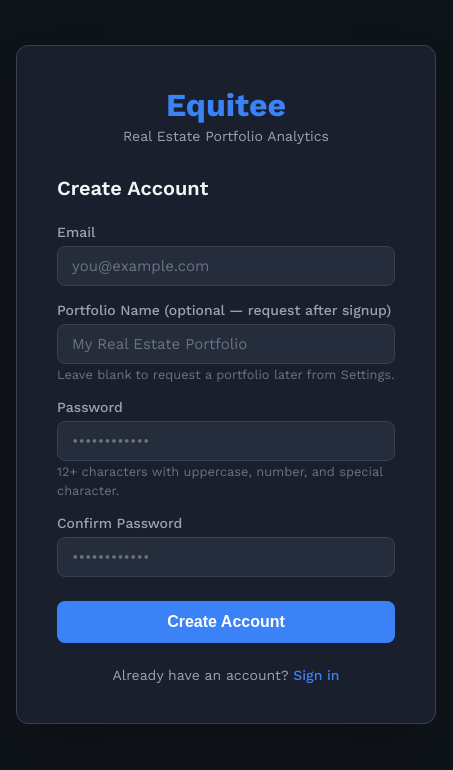
Test: RegisterPage › shows error when passwords do not match
The image size is (453, 770).
Type "test@example.com" into the field labelled "Email".
click(226, 266); type("test@example.com")  # box [57,246,395,286]
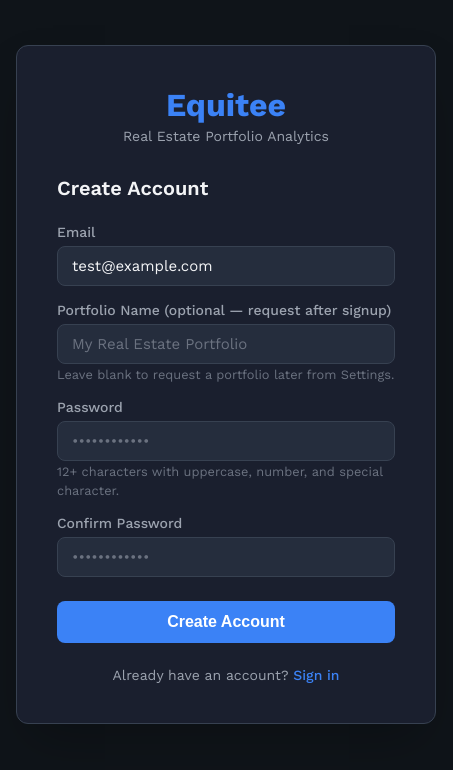
Type "password123" into the password field labelled "Password".
click(226, 440); type("password123")  # box [57,420,395,460]
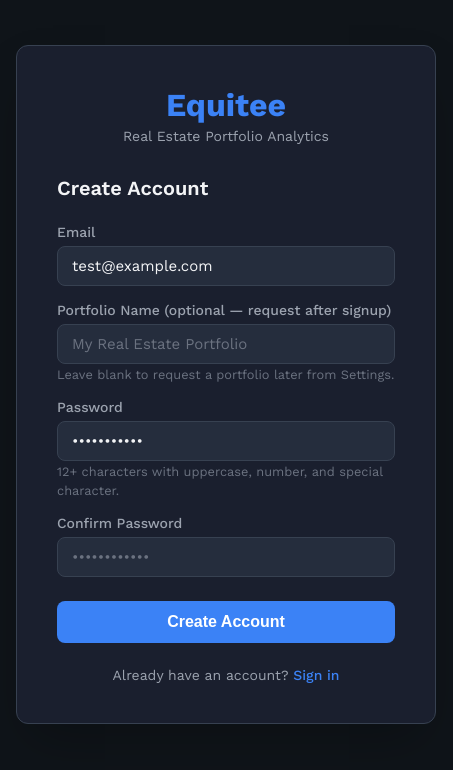
Type "different" into the password field labelled "Confirm Password".
click(226, 556); type("different")  # box [57,536,395,576]
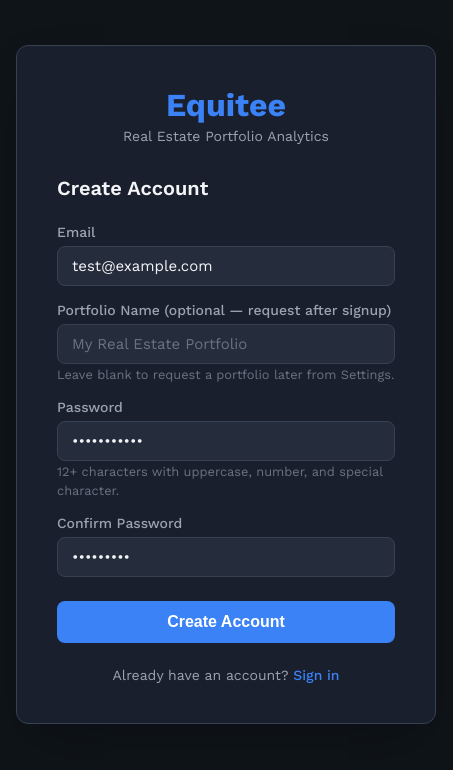
Click the button "Create Account".
click(226, 622)  # box [57,600,395,642]
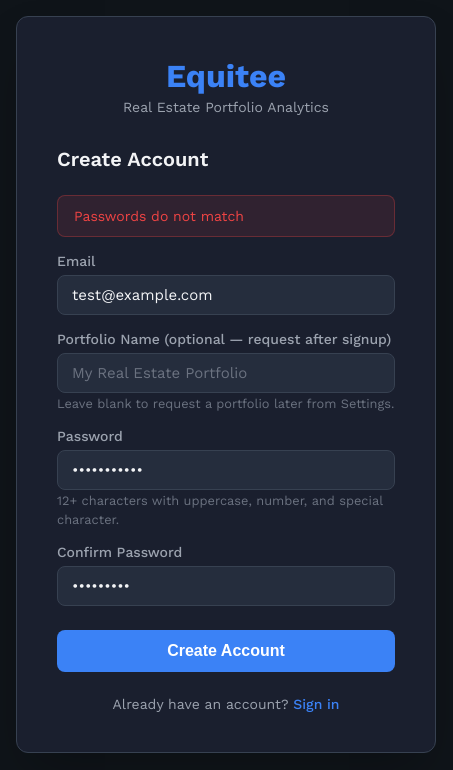
expect the text "Passwords do not match" is shown: met, box [57,194,395,236]
